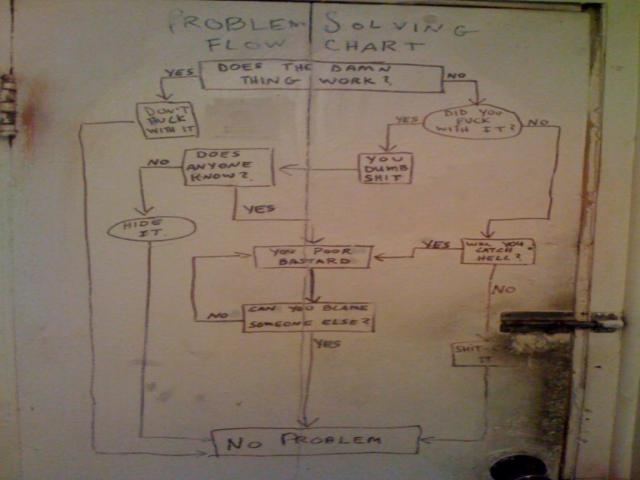Door-handle: (491, 456, 552, 480)
